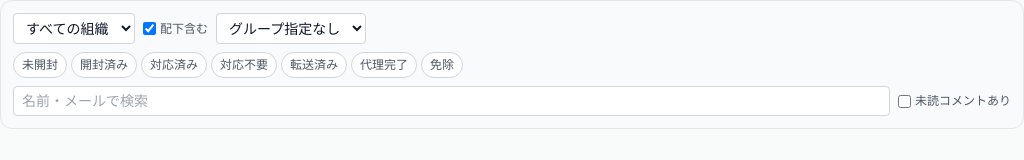
Scenario: AssigneeListFilters Clear button › clear button appears when status is toggled
Click the button "対応済み" at {"x": 174, "y": 65}, box [141,52,207,78]
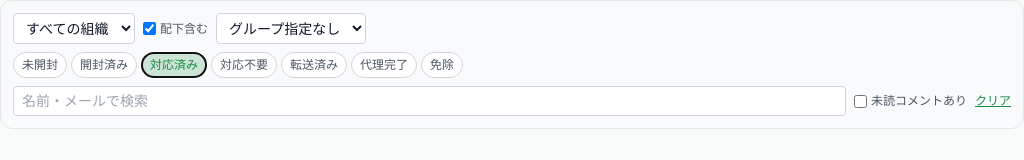
Result: the button "クリア" is shown at [975,93,1011,109]
